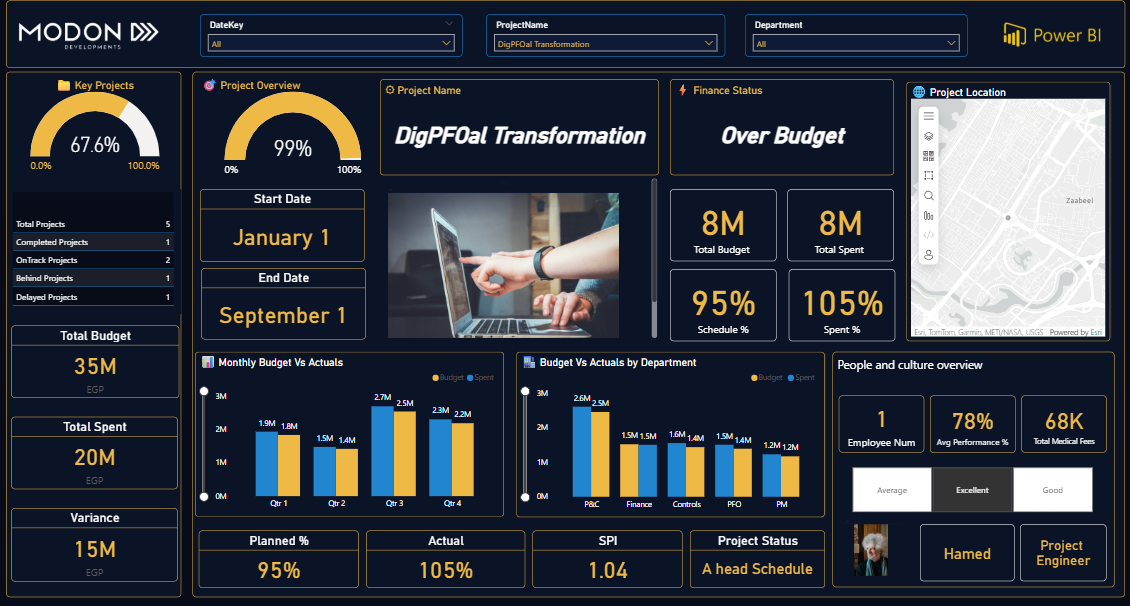

The dashboard page shown, as its layout file describes it:
{"tool":"powerbi","page":{"name":"Page 1","canvas":[1810,980],"ordinal":0},"visuals":[{"type":"textbox","box":[10,4,1790,108],"z":0},{"type":"image","box":[0,13.3,285,93.3],"z":1000},{"type":"image","box":[1598,16,172,84],"z":2000},{"type":"slicer","fields":{"Values":["FactFinance.DateKey"]},"box":[320,26,420,68],"z":3000},{"type":"slicer","fields":{"Values":["DimProject.ProjectName"]},"box":[778,26,382,68],"z":4000},{"type":"slicer","fields":{"Values":["FactFinance.Department"]},"box":[1192,26,356,68],"z":5000},{"type":"textbox","box":[9.8,117.6,280.4,841.2],"z":6000},{"type":"pivotTable","fields":{"Values":["OverAll.Total Projects","OverAll.Completed Projects","OverAll.OnTrack Projects","OverAll.Behind Projects","OverAll.Delayed Projects"]},"box":[16,306,274,200],"z":7000},{"type":"card","title":"Total Budget","fields":{"Values":["Sum(OverAll.BudgetTotal)"]},"box":[17.6,523.5,268.6,115.7],"z":8000},{"type":"card","title":"Total Spent","fields":{"Values":["OverAll.Overall Spent"]},"box":[17.6,670.6,266.7,115.7],"z":9000},{"type":"card","title":"Variance","fields":{"Values":["Sum(OverAll.Variance)"]},"box":[17.6,815.7,266.7,117.6],"z":10000},{"type":"gauge","title":"📁 Key Projects","fields":{"Y":["OverAll.Overall POC %"]},"box":[18,126,268,164],"z":11000},{"type":"textbox","box":[307.8,117.6,1492.2,841.2],"z":12000},{"type":"gauge","title":"🎯 Project Overview","fields":{"Y":["Min(DimProject.Actual %)"]},"box":[318.6,125.7,301.4,170],"z":13000},{"type":"card","title":"Start Date","fields":{"Values":["DimProject.Strat Date"]},"box":[320,305.7,262.9,115.7],"z":14000},{"type":"card","title":"End Date","fields":{"Values":["DimProject.Finish Date"]},"box":[321.4,431.4,262.9,114.3],"z":15000},{"type":"tableEx","fields":{"Values":["DimProject.PIC"]},"box":[610,283.3,446.7,265],"z":16000},{"type":"card","title":"⚙ Project Name","fields":{"Values":["DimProject.Selected Project"]},"box":[608.3,130,446.7,153.3],"z":17000},{"type":"card","title":"⚡ Finance Status","fields":{"Values":["FactFinance.Finance Status"]},"box":[1071.7,130,358.3,153.3],"z":18000},{"type":"card","fields":{"Values":["FactFinance.Total Budget (Project)"]},"box":[1071.7,306.7,170,115],"z":19000},{"type":"card","fields":{"Values":["FactFinance.Total Spent (Project)"]},"box":[1260,306.7,170,115],"z":20000},{"type":"card","fields":{"Values":["DimProject.Schedule %"]},"box":[1071.7,433.3,170,115],"z":21000},{"type":"card","fields":{"Values":["FactFinance.Spent %"]},"box":[1261.7,433.3,170,115],"z":22000},{"type":"esriVisual","title":" 🌐 Project Location","fields":{"Latitude":["DimProject.Latitude"],"Longitude":["DimProject.Longitude"],"Color":["DimProject.Legend"]},"box":[1450,133.3,326.7,415],"z":23000},{"type":"clusteredColumnChart","title":"📊 Monthly Budget Vs Actuals","fields":{"Y":["FactFinance.Total Budget (Project)","FactFinance.Total Spent (Project)"],"Category":["FactFinance.DateKey.Variation.Date Hierarchy.Year","FactFinance.DateKey.Variation.Date Hierarchy.Quarter","FactFinance.DateKey.Variation.Date Hierarchy.Month","FactFinance.DateKey.Variation.Date Hierarchy.Day"]},"box":[312,566,494,264],"z":24000},{"type":"clusteredColumnChart","title":"🏬 Budget Vs Actuals by Department","fields":{"Y":["FactFinance.Total Budget (Project)","FactFinance.Total Spent (Project)"],"Category":["FactFinance.Department"]},"box":[825,565,493.3,265],"z":25000},{"type":"card","title":"Planned %","fields":{"Values":["DimProject.Schedule %"]},"box":[318,852,256,92],"z":26000},{"type":"card","title":"Actual","fields":{"Values":["FactFinance.Spent %"]},"box":[586,852,254,92],"z":27000},{"type":"card","title":"SPI","fields":{"Values":["DimProject.SPII"]},"box":[852,852,240,92],"z":28000},{"type":"card","title":"Project Status","fields":{"Values":["DimProject.Project Status"]},"box":[1104,852,216,92],"z":29000},{"type":"textbox","box":[1332.9,565.7,451.4,377.1],"z":29500},{"type":"card","title":"Variance","fields":{"Values":["FactHR.Employee Count"]},"box":[1342.9,635.7,137.1,91.4],"z":30000},{"type":"card","title":"Variance","fields":{"Values":["FactHR.Avg Performance %"]},"box":[1487.8,635.6,136.7,92.2],"z":31000},{"type":"card","title":"Variance","fields":{"Values":["FactHR.Total Medical Fees"]},"box":[1634.3,635.7,137.1,91.4],"z":32000},{"type":"tableEx","fields":{"Values":["DimEmployee2.Image"]},"box":[1340,809,124,134],"z":34000},{"type":"card","fields":{"Values":["Min(DimEmployee2.FullName)"]},"box":[1472.9,841.4,151.4,91.4],"z":35000},{"type":"slicer","fields":{"Values":["DimEmployee2.Performance"]},"box":[1337.1,744.3,434.3,85.7],"z":36000},{"type":"card","fields":{"Values":["Min(DimEmployee2.JobTPFOle)"]},"box":[1632.9,841.4,138.6,91.4],"z":37000}]}

Visuals, with their boxes in screenshot pixels (x1, y1, x2, y2), scaled from the page's 1810x980 canvas onto the 1130x606 screenshot:
textbox: box(6, 2, 1124, 69)
image: box(0, 8, 178, 66)
image: box(998, 10, 1105, 62)
slicer - FactFinance.DateKey: box(200, 16, 462, 58)
slicer - DimProject.ProjectName: box(486, 16, 724, 58)
slicer - FactFinance.Department: box(744, 16, 966, 58)
textbox: box(6, 73, 181, 593)
pivotTable - OverAll.Total Projects x OverAll.Completed Projects: box(10, 189, 181, 313)
"Total Budget" card: box(11, 324, 179, 395)
"Total Spent" card: box(11, 415, 177, 486)
"Variance" card: box(11, 504, 177, 577)
"📁 Key Projects" gauge: box(11, 78, 179, 179)
textbox: box(192, 73, 1124, 593)
"🎯 Project Overview" gauge: box(199, 78, 387, 183)
"Start Date" card: box(200, 189, 364, 261)
"End Date" card: box(201, 267, 365, 337)
tableEx - DimProject.PIC: box(381, 175, 660, 339)
"⚙ Project Name" card: box(380, 80, 659, 175)
"⚡ Finance Status" card: box(669, 80, 893, 175)
card - FactFinance.Total Budget (Project): box(669, 190, 775, 261)
card - FactFinance.Total Spent (Project): box(787, 190, 893, 261)
card - DimProject.Schedule %: box(669, 268, 775, 339)
card - FactFinance.Spent %: box(788, 268, 894, 339)
" 🌐 Project Location" esriVisual: box(905, 82, 1109, 339)
"📊 Monthly Budget Vs Actuals" clusteredColumnChart: box(195, 350, 503, 513)
"🏬 Budget Vs Actuals by Department" clusteredColumnChart: box(515, 349, 823, 513)
"Planned %" card: box(199, 527, 358, 584)
"Actual" card: box(366, 527, 524, 584)
"SPI" card: box(532, 527, 682, 584)
"Project Status" card: box(689, 527, 824, 584)
textbox: box(832, 350, 1114, 583)
"Variance" card: box(838, 393, 924, 450)
"Variance" card: box(929, 393, 1014, 450)
"Variance" card: box(1020, 393, 1106, 450)
tableEx - DimEmployee2.Image: box(837, 500, 914, 583)
card - Min(DimEmployee2.FullName): box(920, 520, 1014, 577)
slicer - DimEmployee2.Performance: box(835, 460, 1106, 513)
card - Min(DimEmployee2.JobTPFOle): box(1019, 520, 1106, 577)
